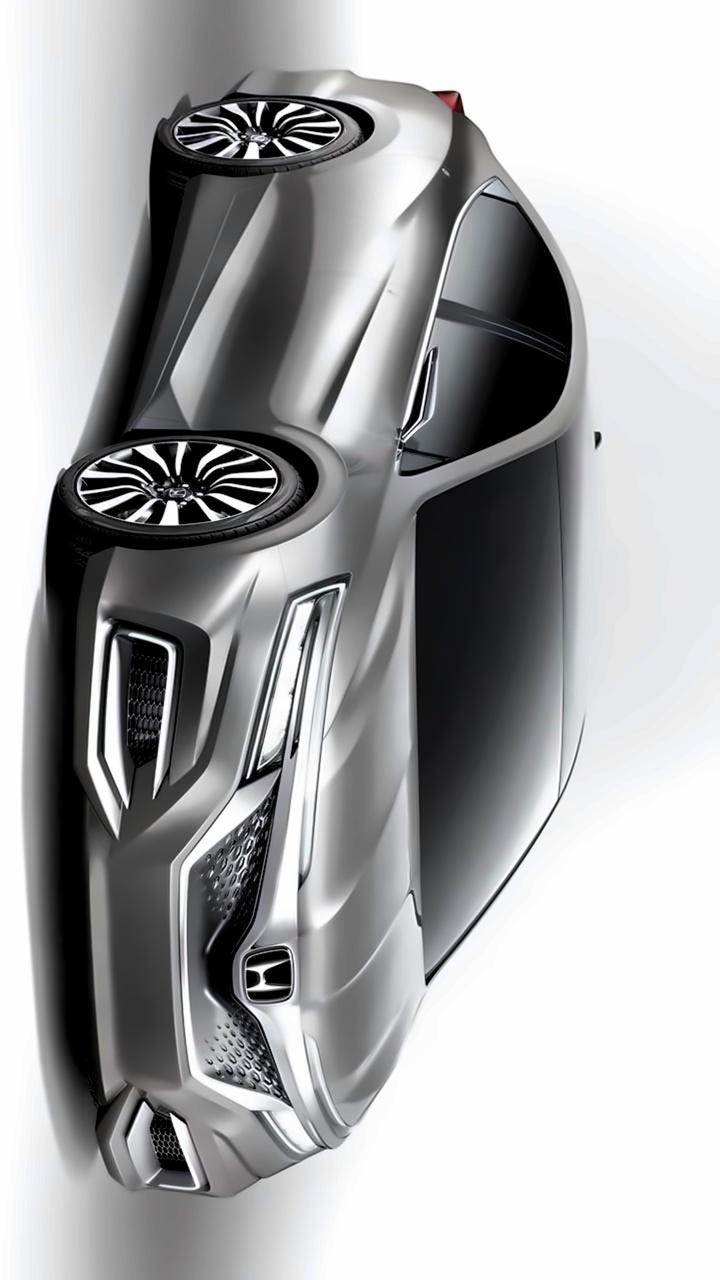Car hood: (293, 508, 436, 1142)
Driver-s door - -F-R-: (145, 286, 582, 425)
Fender - -F-R-: (118, 418, 434, 579)
Fender - -R-R-: (212, 98, 452, 179)
Front bumper: (50, 528, 272, 1213)
Headlight - -L-: (238, 1090, 331, 1174)
Headlight - -R-: (230, 566, 363, 795)
Passenger-s door - -R-R-: (193, 161, 575, 282)
Rear bumper: (205, 46, 361, 114)
Rear light - -R-: (423, 63, 477, 127)
Side bumper - -R-: (116, 153, 252, 447)
Side mirror - -R-: (388, 333, 459, 452)
